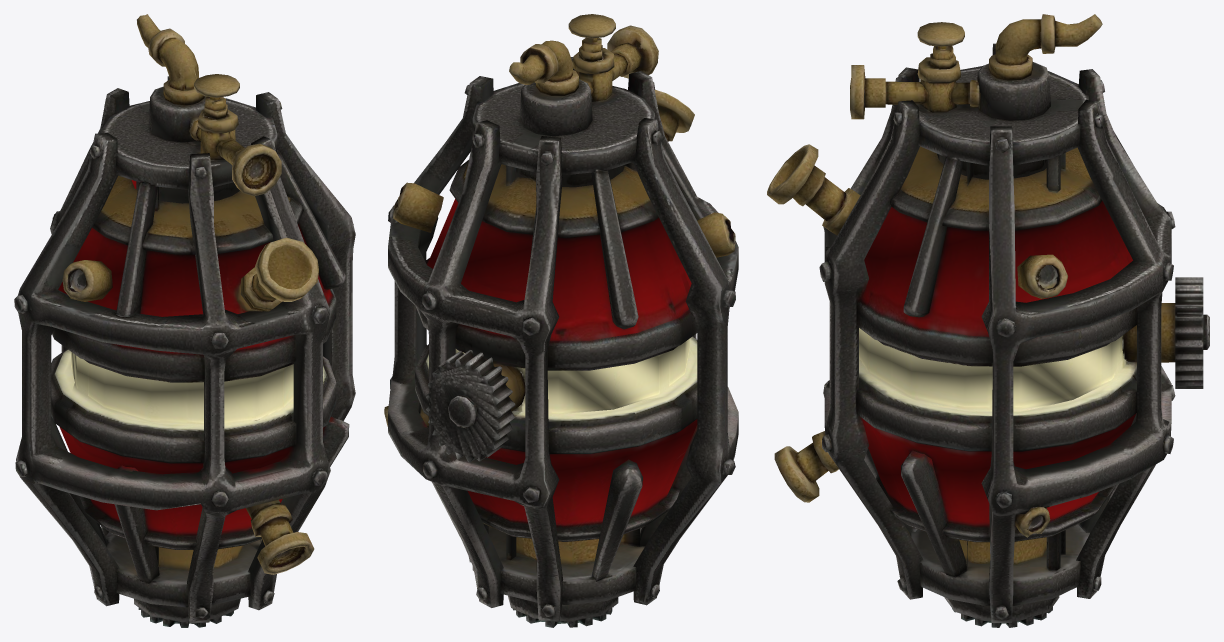
Rendered from tripo_convert_01e57af9-568a-4d4b-8c12-f06d8b8e8558.fbx.
The picture shows the model from 3 angles, left to right: view 1: azimuth 30°, elevation 25°; view 2: azimuth 150°, elevation 25°; view 3: azimuth 270°, elevation 25°; orthographic projection. The views are drawn at different scales.
Parts seen in each view (by area): view 1: tripo_node_01e57af9; view 2: tripo_node_01e57af9; view 3: tripo_node_01e57af9.
Boxes of the visible parts, <box> form: tripo_node_01e57af9: <box>14,14,355,627</box>; tripo_node_01e57af9: <box>384,14,738,627</box>; tripo_node_01e57af9: <box>767,14,1209,627</box>.
Bounding box in the file's own units: 0.6152 × 0.998 × 0.6777.
1 material, 1 textured.
